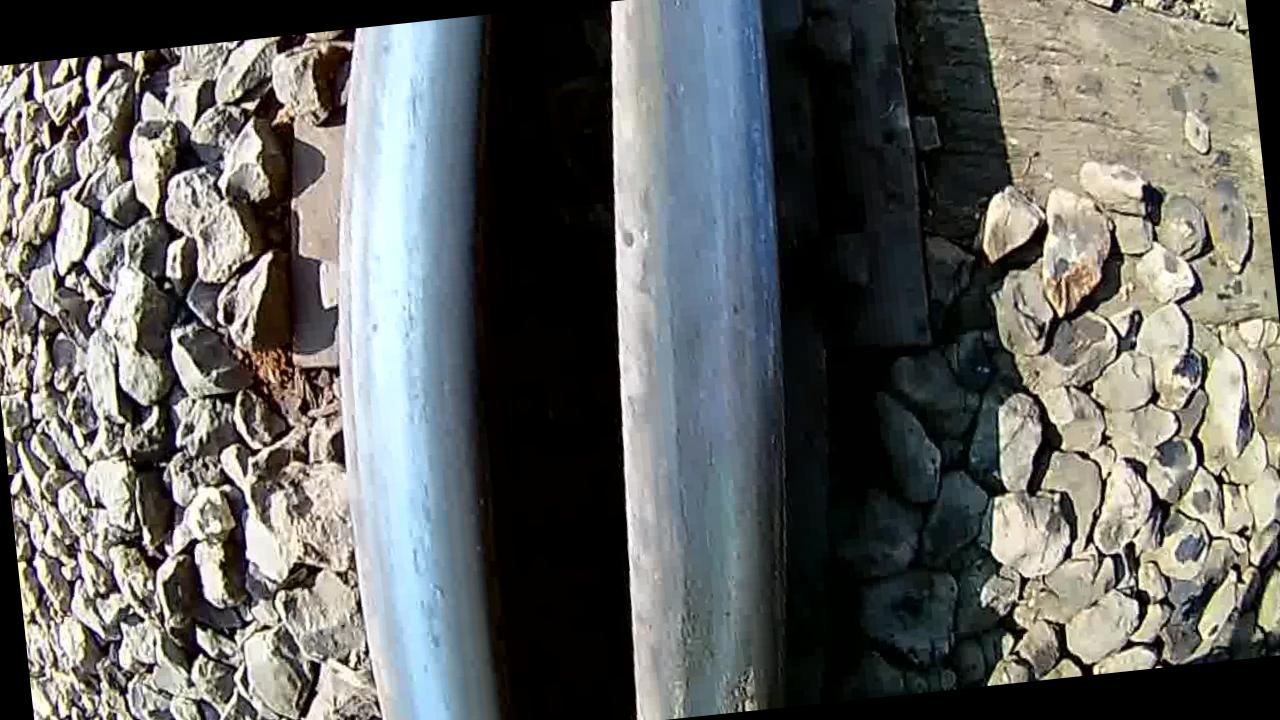crack: (597, 249, 821, 720)
